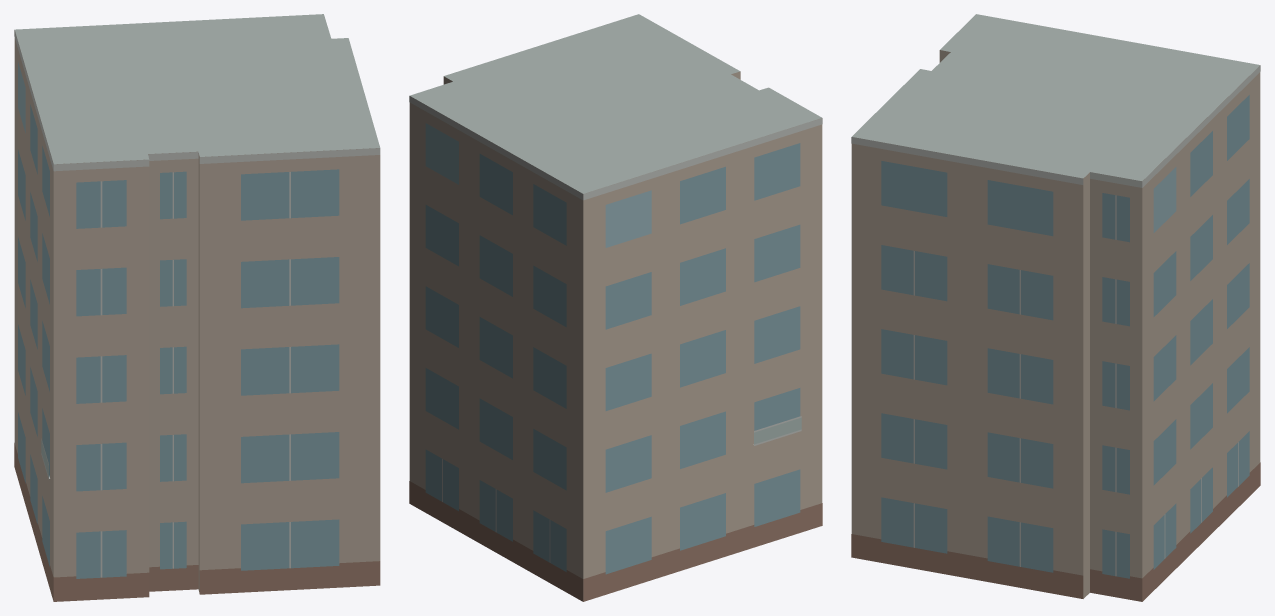
The model's file is survey-upis-32537558.glb.
The picture shows the model from 3 angles, left to right: view 1: azimuth 30°, elevation 25°; view 2: azimuth 150°, elevation 25°; view 3: azimuth 270°, elevation 25°; orthographic projection. The views are drawn at different scales.
Visible parts, largest first — view 1: survey-upis-32537558.tmp; view 2: survey-upis-32537558.tmp; view 3: survey-upis-32537558.tmp.
Boxes of the visible parts, bbox=[...] form: survey-upis-32537558.tmp: bbox=[14, 14, 380, 601]; survey-upis-32537558.tmp: bbox=[409, 14, 822, 601]; survey-upis-32537558.tmp: bbox=[851, 14, 1260, 601].
Bounding box in the file's own units: 13.02 × 15.26 × 13.46.
